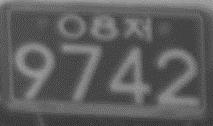0: (57, 12, 86, 39)
2: (156, 47, 200, 108)
4: (110, 46, 151, 104)
7: (61, 42, 102, 102)
8: (90, 13, 118, 41)
9: (15, 42, 55, 100)
저: (123, 15, 152, 42)
